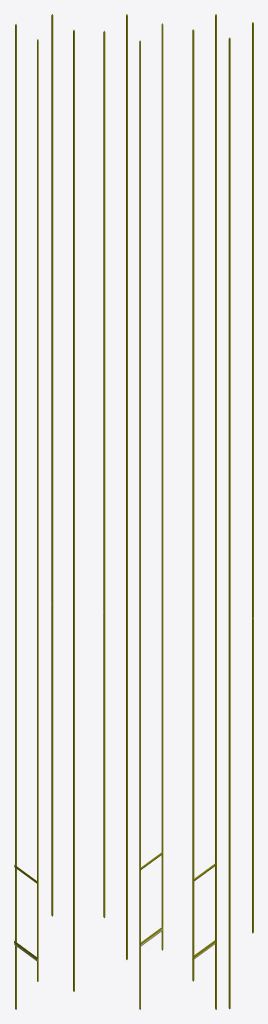
Rendered from Working-Coalmine_caveguide.fbx.
3 views of the same model, side by side, from view 1: azimuth 30°, elevation 25°; view 2: azimuth 150°, elevation 25°; view 3: azimuth 330°, elevation 25° (orthographic). The views are drawn at different scales.
Parts seen in each view (by area): view 1: Caveguide; view 2: Caveguide; view 3: Caveguide.
Part boxes in pixels (x1,y1,x2,y2): Caveguide: (14, 14, 74, 1009); Caveguide: (103, 14, 163, 1009); Caveguide: (192, 14, 253, 1009).
Size of the model in its own units: 0.8766 by 21.41 by 0.9206.
